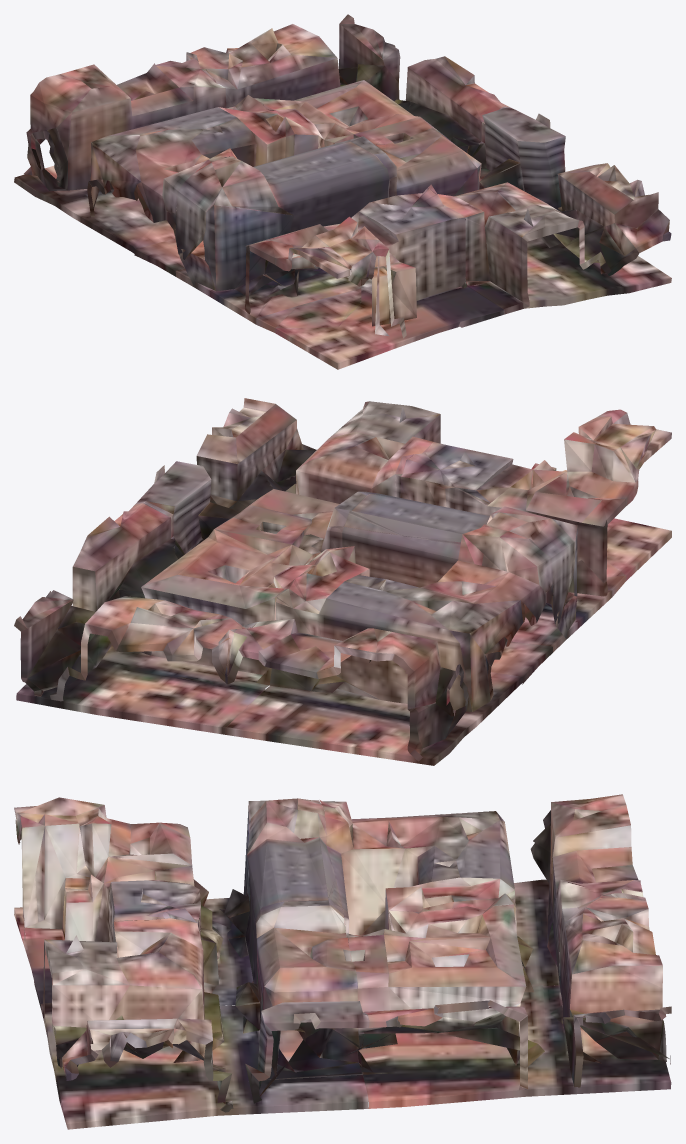
3 renders of one model, top to bottom at view 1: azimuth 30°, elevation 25°; view 2: azimuth 150°, elevation 25°; view 3: azimuth 270°, elevation 25°, orthographic. The views are drawn at different scales.
Visible parts, largest first — view 1: Mesh_0; view 2: Mesh_0; view 3: Mesh_0.
Boxes of the visible parts, <box> form: Mesh_0: <box>14,14,671,369</box>; Mesh_0: <box>14,398,671,765</box>; Mesh_0: <box>14,794,671,1129</box>.
Bounding box in the file's own units: 133 × 39.66 × 165.
1 material, 1 textured.
